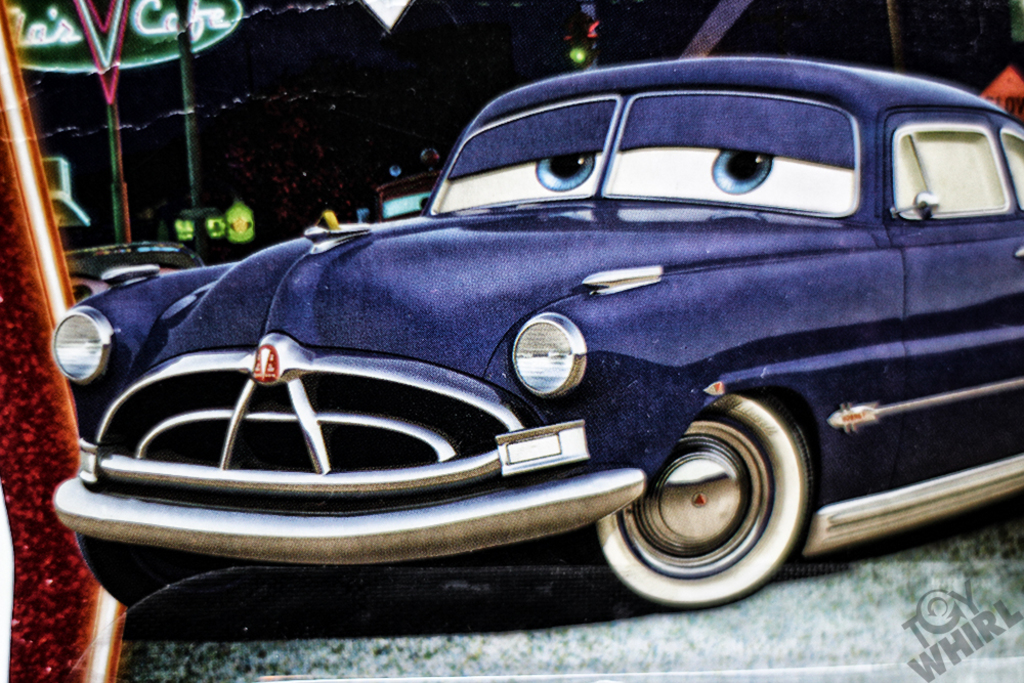Car: (51, 53, 1024, 615)
